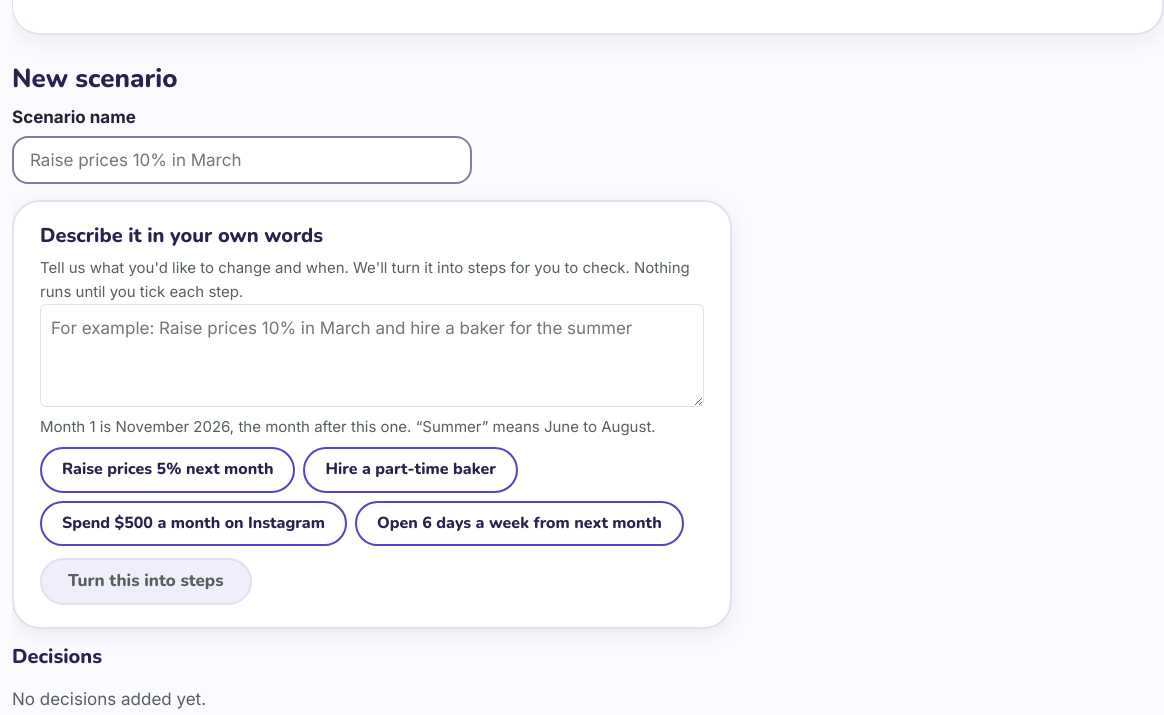
Test: ScenarioBuilderPage: describe it in your own words › turns the owner's words into UNTICKED steps, and names the scenario after them
The width and height of the screenshot is (1164, 715).
(page scrolled)
Step 1. Type "Raise prices 10% in March and hire a baker for the summer" into the text box named "What would you like to change?" → coordinates (372, 355), box [40,304,704,407]
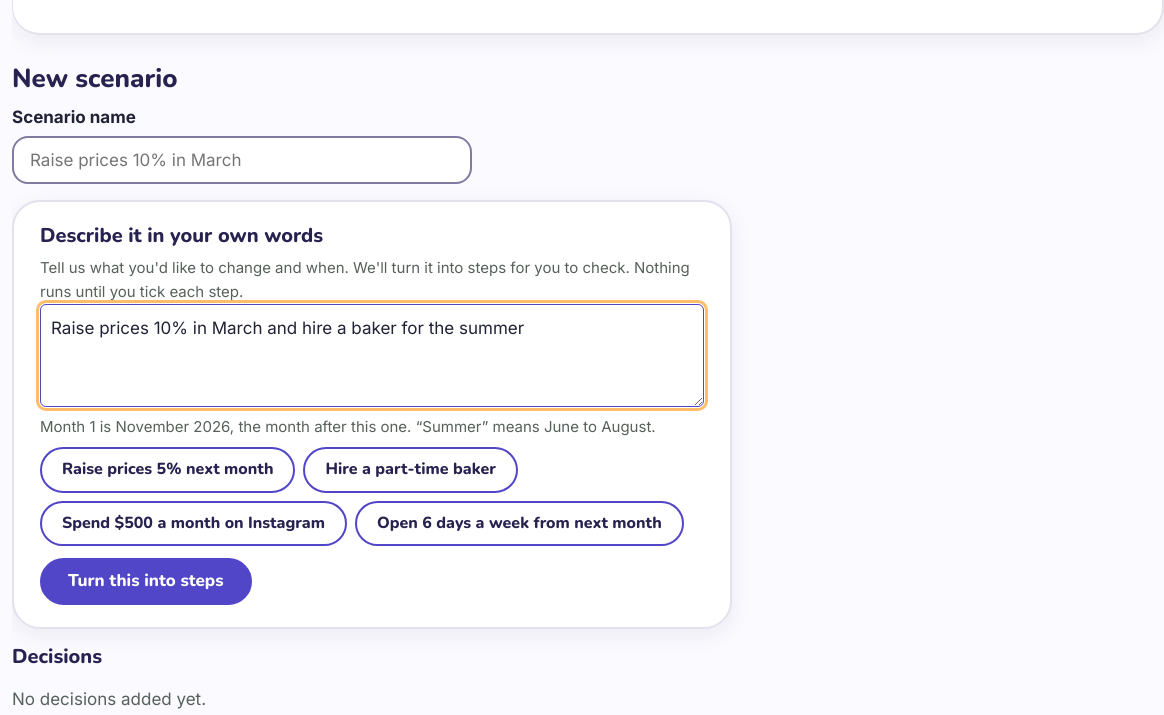
Step 2. Click the button "Turn this into steps" → coordinates (146, 582), box [40,558,252,605]
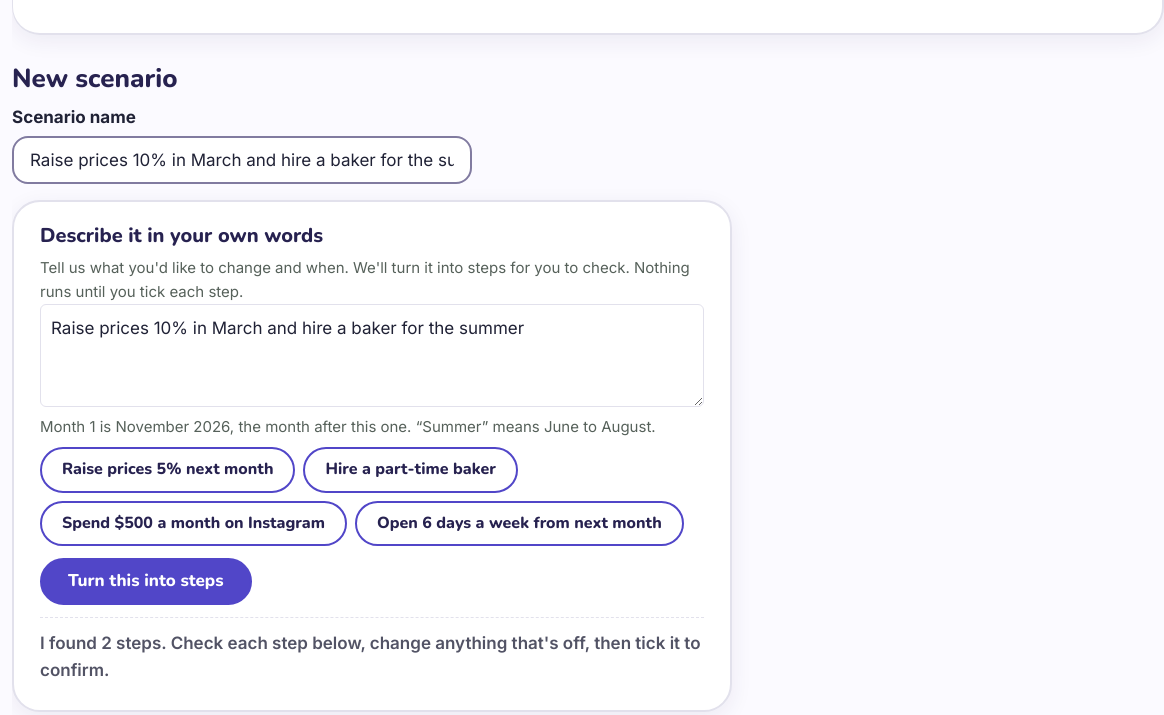
Expected: the text "I found 2 steps" is shown, [40,633,166,653]
Expected: the field labelled "Scenario name" holds "Raise prices 10% in March and hire a baker for the summer", [12,136,472,184]
